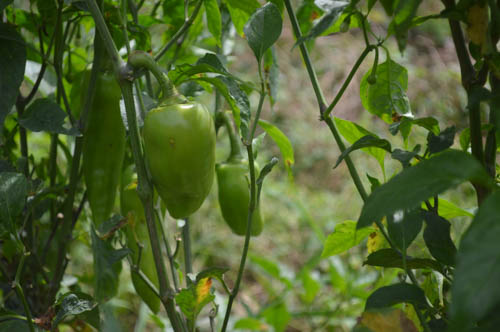ChiliPepper: (141, 104, 214, 225), (83, 73, 122, 230), (120, 187, 163, 314), (217, 161, 263, 236)
